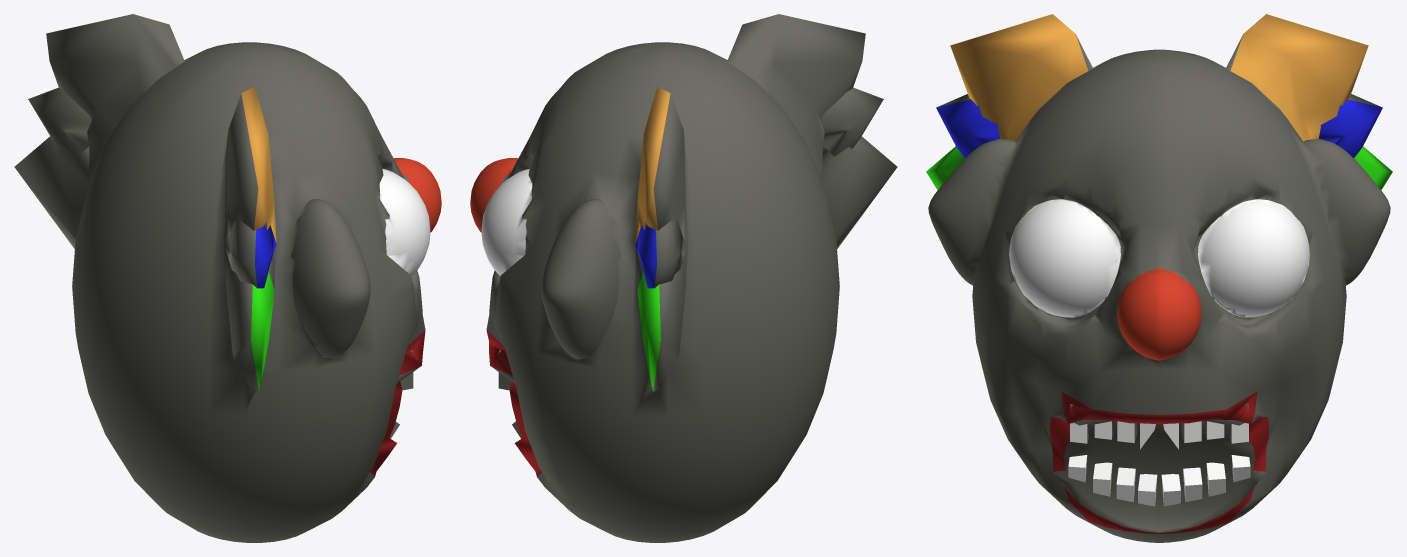
Rendered from ClownBossFinalHead.fbx.
The picture shows the model from 3 angles, left to right: view 1: azimuth 30°, elevation 25°; view 2: azimuth 150°, elevation 25°; view 3: azimuth 270°, elevation 25°; orthographic projection.
Visible parts, largest first — view 1: Sphere; view 2: Sphere; view 3: Sphere.
Part boxes in pixels (box(x1,y1,x2,y2)): Sphere: box(14, 14, 441, 542); Sphere: box(470, 14, 897, 542); Sphere: box(926, 14, 1392, 542).
Bounding box in the file's own units: 153 × 213 × 185.
